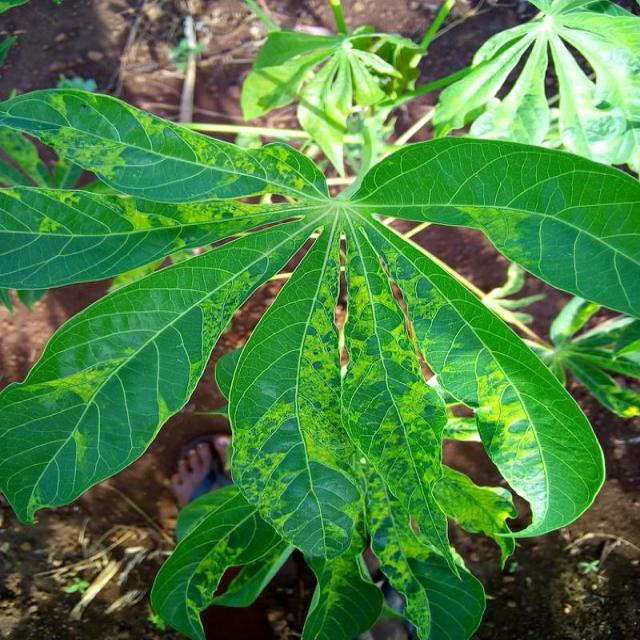cassava leaf: (1, 83, 638, 637), (1, 205, 320, 526), (347, 133, 640, 320)
